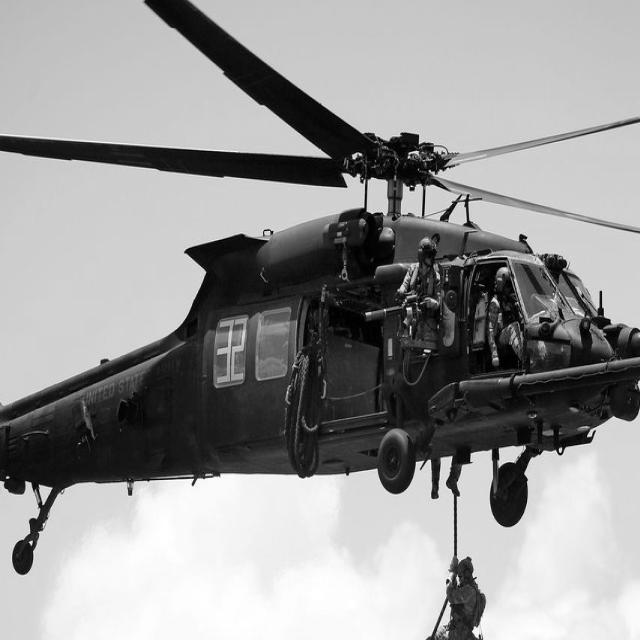helicopter: (1, 1, 640, 578)
